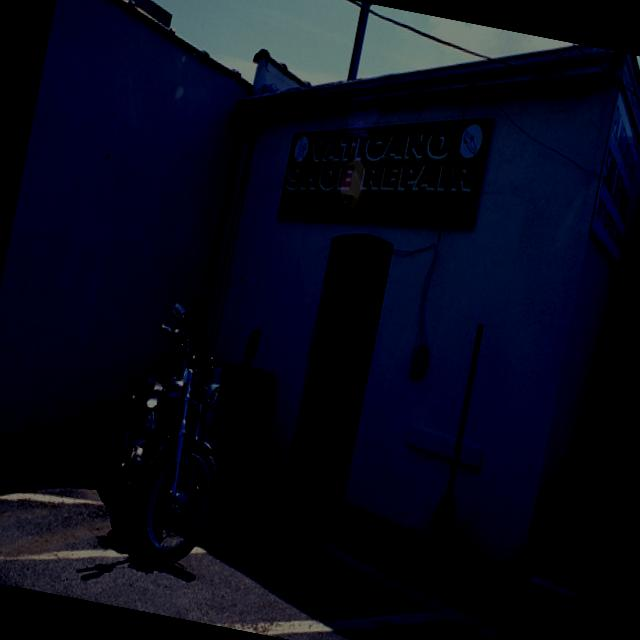Vehicle: (86, 296, 252, 574), (541, 458, 618, 640)
